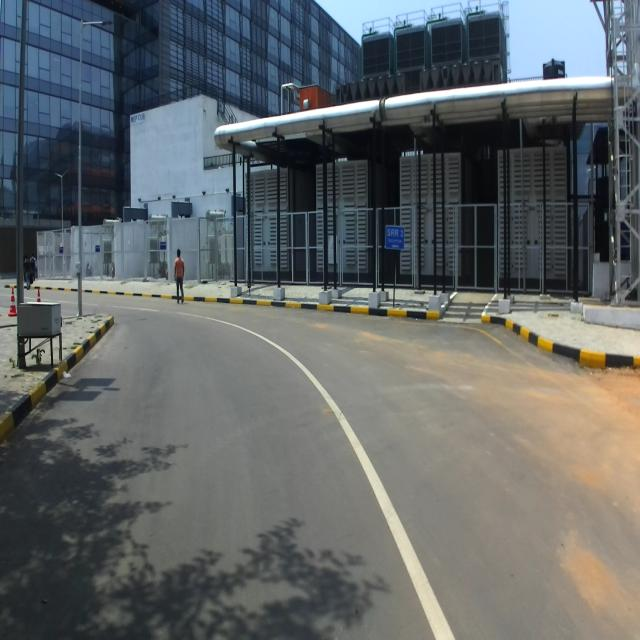electric pole ahead at: (12, 4, 48, 310), (70, 9, 100, 319)
